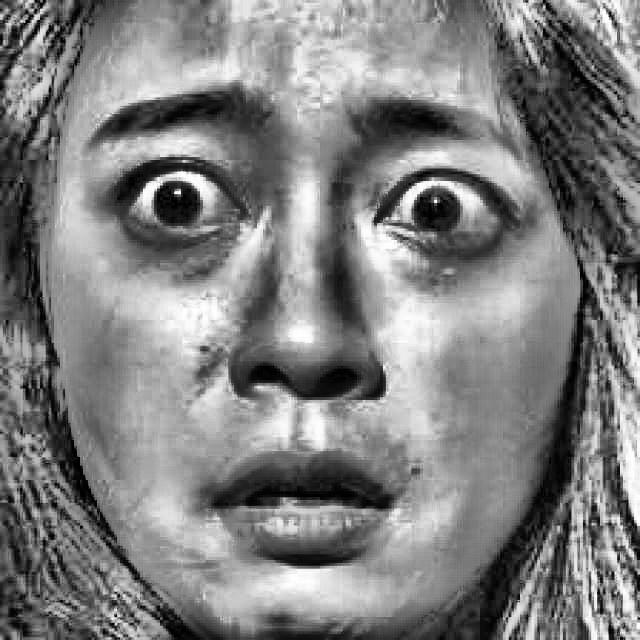fear: (75, 63, 525, 577)
